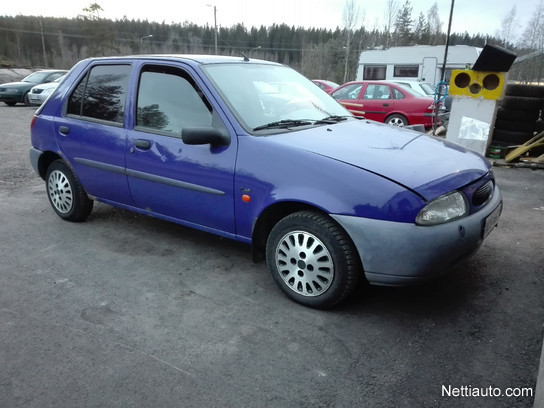car: (28, 52, 502, 308)
